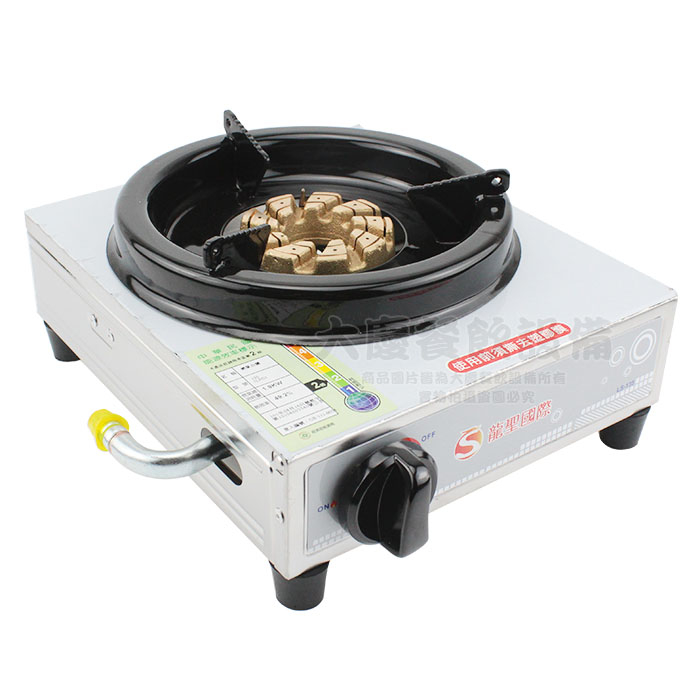gasoven: (21, 103, 680, 614)
